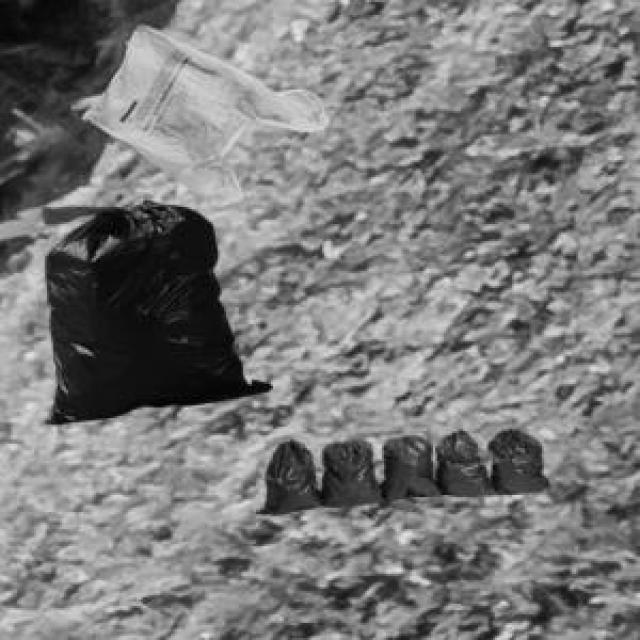miscellaneous trash: (36, 196, 267, 420), (252, 422, 546, 510)
